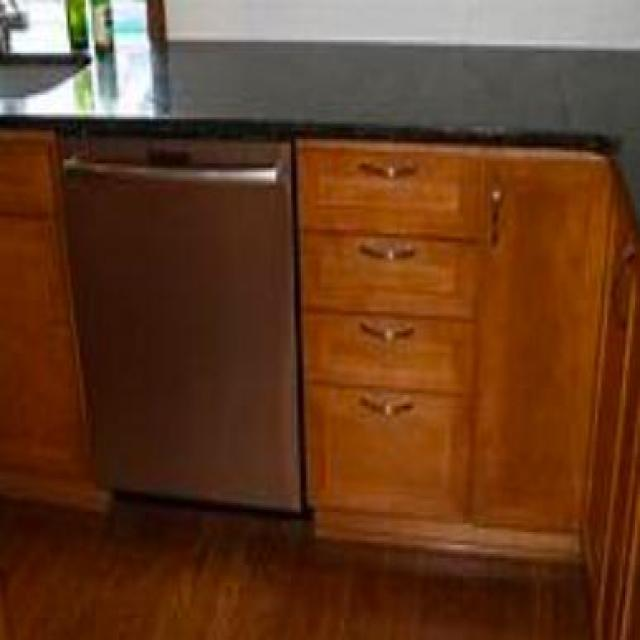dishwasher: (58, 122, 298, 514)
